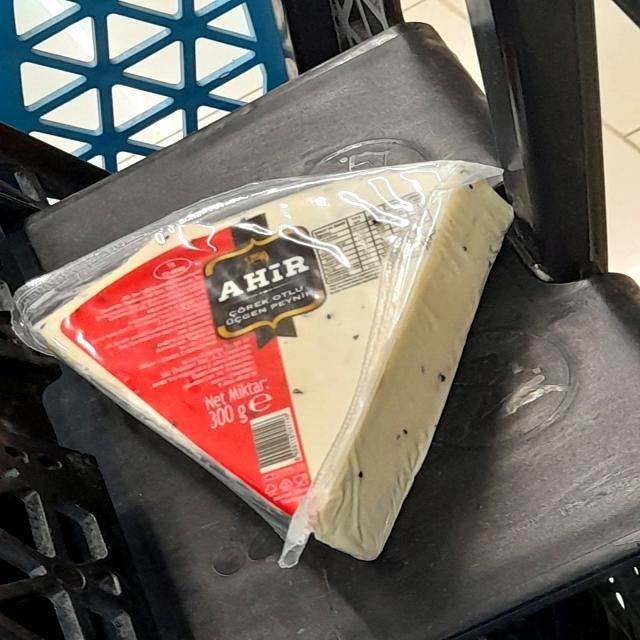cheese: (37, 167, 520, 554)
